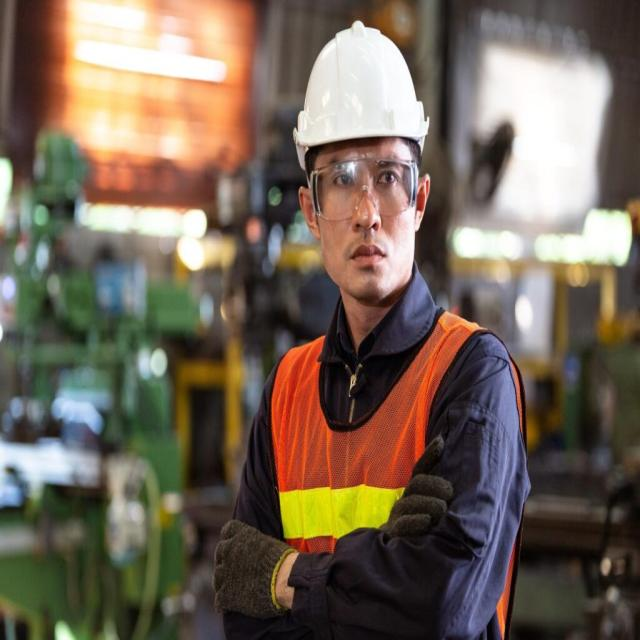goggles: (296, 131, 427, 221)
helmet: (272, 13, 434, 166)
vest: (276, 319, 526, 629)
